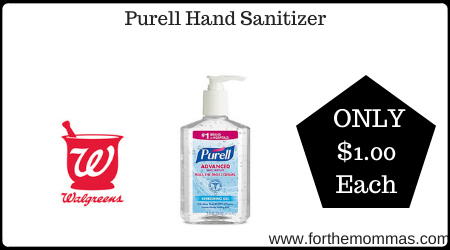Sanitizer: (173, 69, 260, 229)
